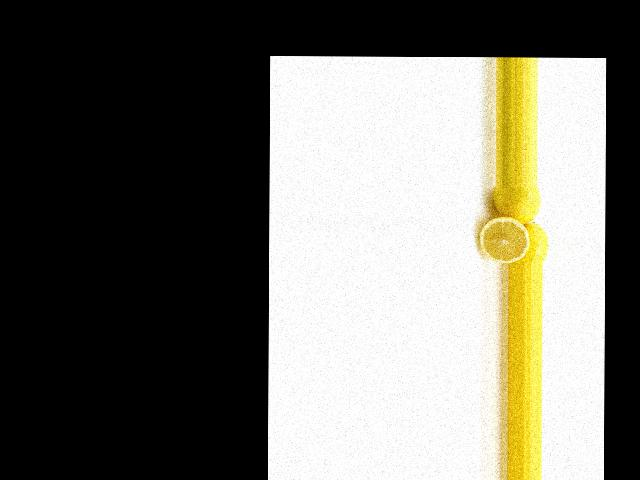lemon: (508, 215, 546, 263)
